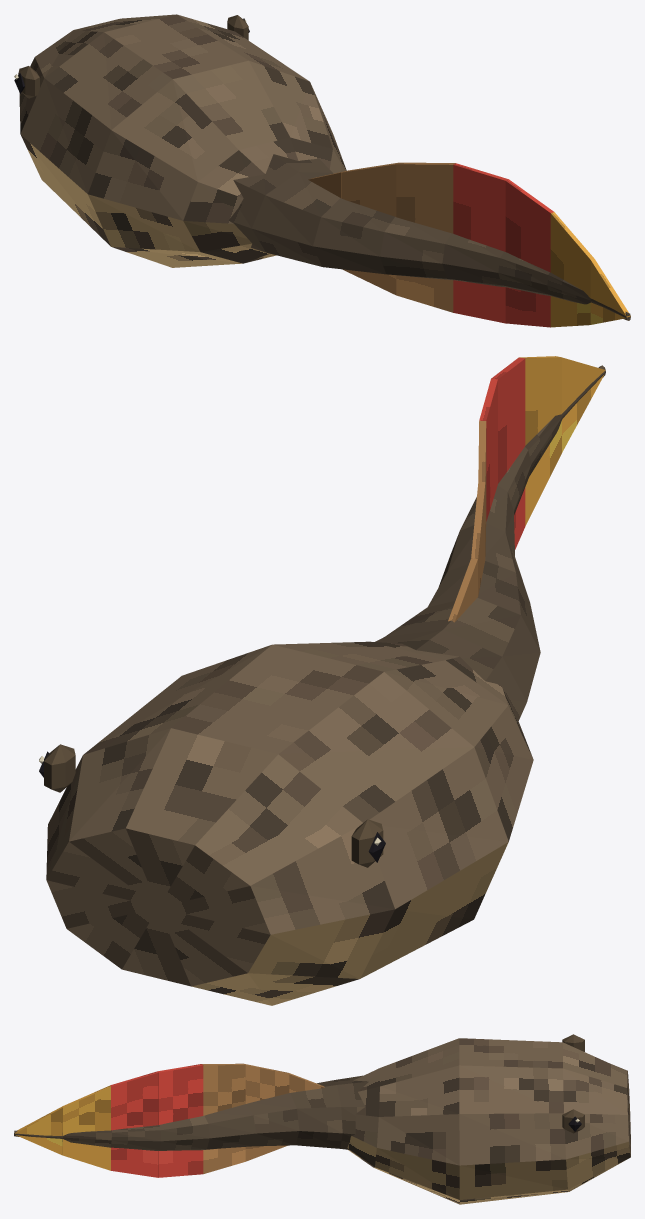
Rendered from mon_shift_bigtad.glb.
3 renders of one model, top to bottom at view 1: azimuth 30°, elevation 25°; view 2: azimuth 150°, elevation 25°; view 3: azimuth 270°, elevation 25°, orthographic. The views are drawn at different scales.
Visible parts, largest first — view 1: closed_body; view 2: closed_body; view 3: closed_body.
Boxes of the visible parts, box(x1,y1,x2,y2) form: closed_body: box(14, 14, 630, 327); closed_body: box(39, 356, 605, 1005); closed_body: box(14, 1034, 630, 1204).
Size of the model in its own units: 0.2057 by 0.1652 by 0.6078.
Materials: 1 (1 with a texture image).
